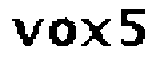5: (118, 6, 147, 48)
o: (47, 18, 78, 48)
v: (6, 14, 45, 48)
x: (80, 16, 112, 49)
